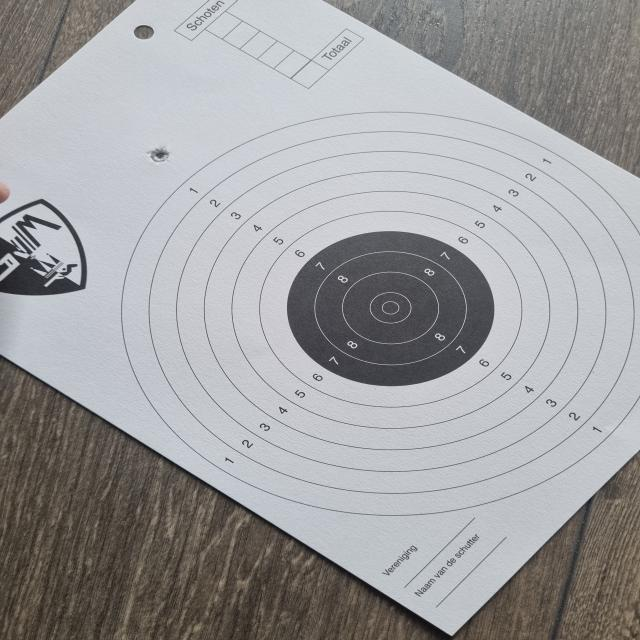0: (146, 146, 171, 164)
Target: (121, 109, 640, 518)
black_contour: (288, 232, 495, 388)
